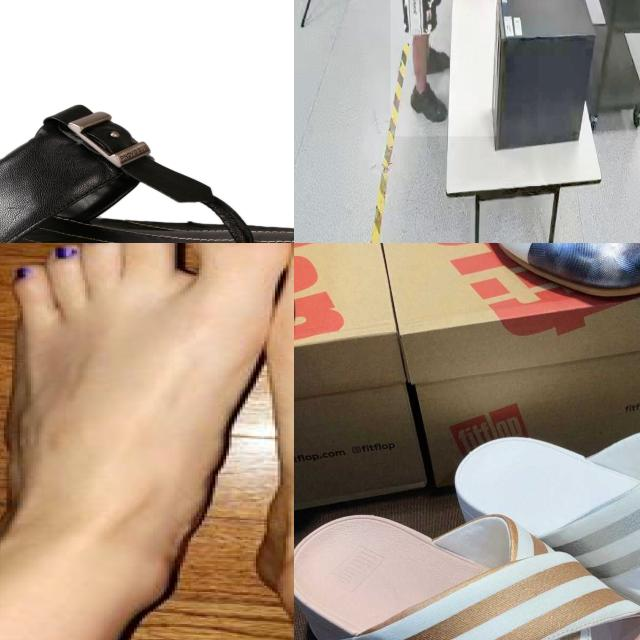Barefoots: (10, 243, 294, 581)
Sandals: (294, 478, 640, 640), (424, 402, 640, 640), (0, 102, 294, 243)
person: (390, 0, 497, 137)
shoes: (408, 79, 452, 129), (412, 39, 452, 81)
